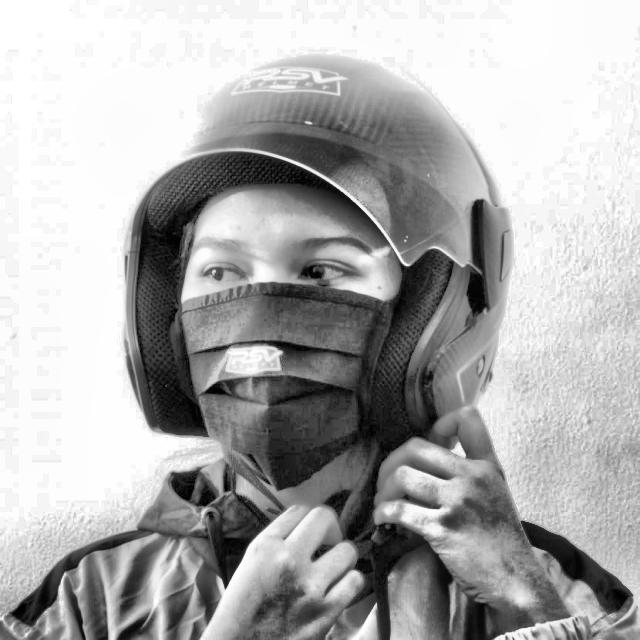Helmet: (111, 35, 521, 530)
